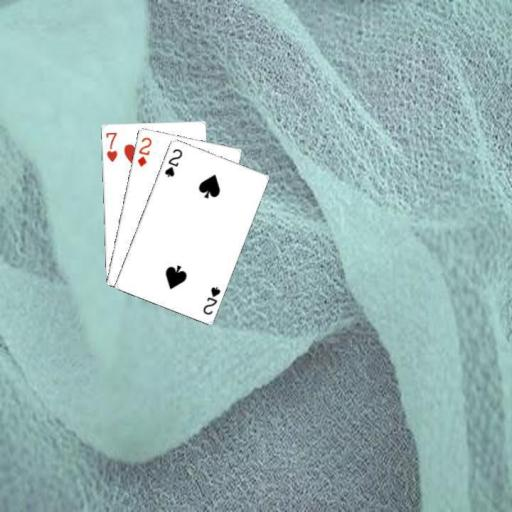card-corner: (162, 145, 184, 179), (200, 283, 222, 316), (134, 134, 153, 168), (102, 128, 118, 164)
